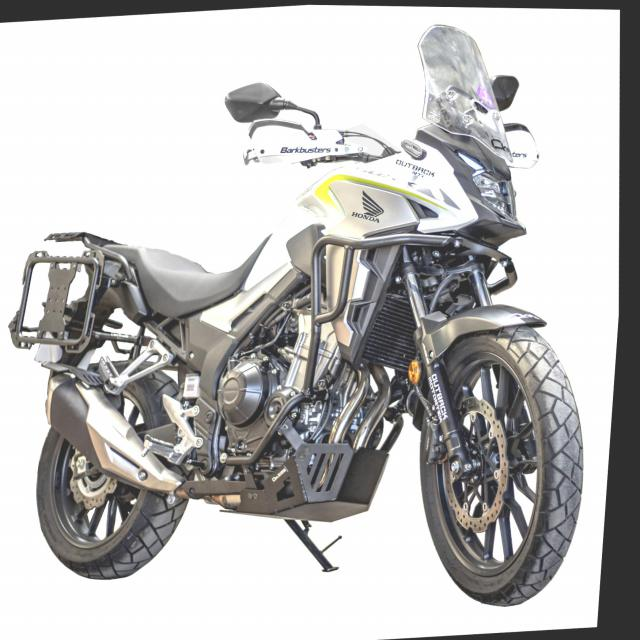CB500X: (0, 3, 625, 640)
